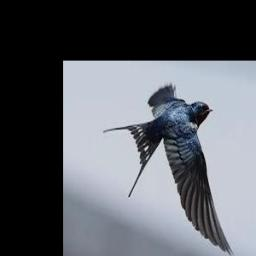Swallow: (103, 82, 235, 256)
